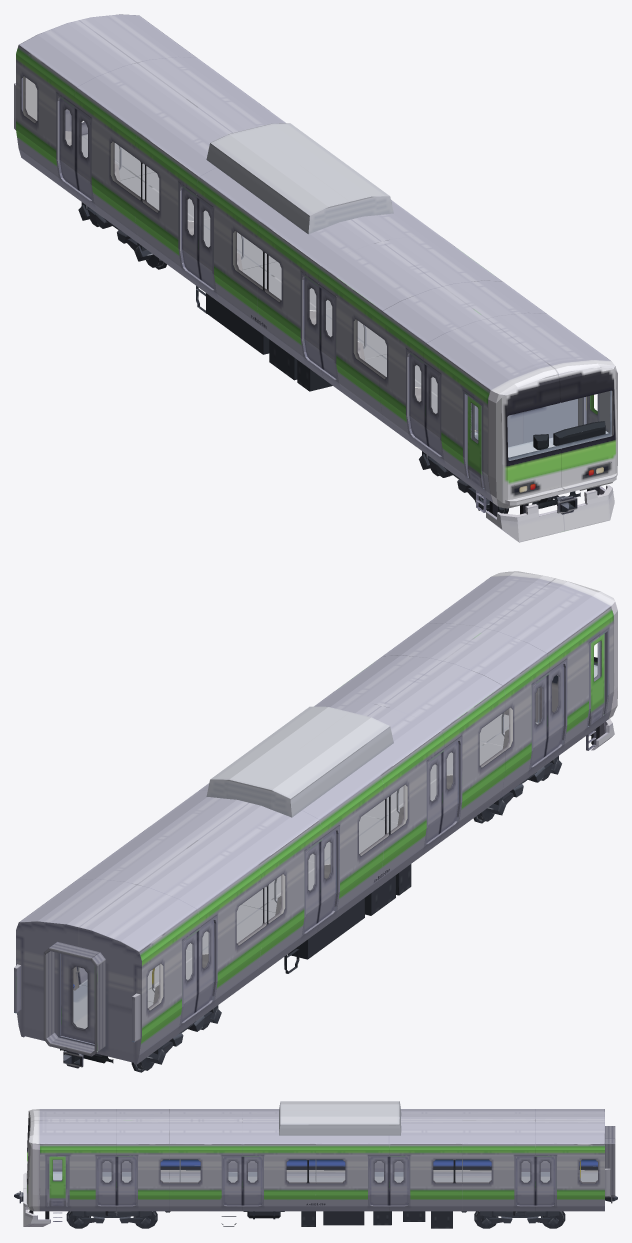
The model's file is jr_east_kuha_e231_500.obj.
3 views of the same model, one above another, from view 1: azimuth 30°, elevation 25°; view 2: azimuth 150°, elevation 25°; view 3: azimuth 270°, elevation 25° (orthographic). The views are drawn at different scales.
Visible parts, largest first — view 1: body_ext, head_ext, tail_ext, body_int, cab_int, door_right_negative_ext, door_right_positive_ext, cab_door_ext_r, bogie_1; view 2: body_ext, tail_ext, head_ext, body_int, door_right_positive_ext, door_right_negative_ext, back_door, cab_door_ext_r, bogie_1, bogie_0; view 3: body_ext, head_ext, tail_ext, body_int, door_left_negative_ext, door_left_positive_ext, bogie_0, bogie_1, cab_door_ext_l, door_right_positive_int, door_right_negative_int.
Boxes of the visible parts, x1,y1,x2,y2 form: body_ext: (56,56,546,459); head_ext: (423,312,617,542); tail_ext: (14,14,196,199); body_int: (23,76,437,413); cab_int: (474,374,611,460); door_right_negative_ext: (59,98,428,445); door_right_positive_ext: (76,109,441,455); cab_door_ext_r: (467,396,483,487); bogie_1: (78,202,152,261); body_ext: (77,623,567,1025); tail_ext: (14,879,199,1068); head_ext: (427,571,617,765); body_int: (73,688,539,1028); door_right_positive_ext: (195,664,563,1012); door_right_negative_ext: (181,675,547,1021); back_door: (61,954,94,1043); cab_door_ext_r: (588,634,604,725); bogie_1: (147,1005,221,1064); bogie_0: (487,756,561,815); body_ext: (95,1101,556,1228); head_ext: (14,1109,116,1226); tail_ext: (535,1109,617,1211); body_int: (102,1159,597,1183); door_left_negative_ext: (116,1156,554,1205); door_left_positive_ext: (97,1156,535,1205); bogie_0: (72,1211,151,1227); bogie_1: (480,1211,559,1227); cab_door_ext_l: (49,1156,65,1206); door_right_positive_int: (102,1161,530,1171); door_right_negative_int: (122,1161,549,1171).
Bounding box in the file's own units: 2.94 × 4.16 × 20.38.
Materials: 5 (5 with a texture image).
